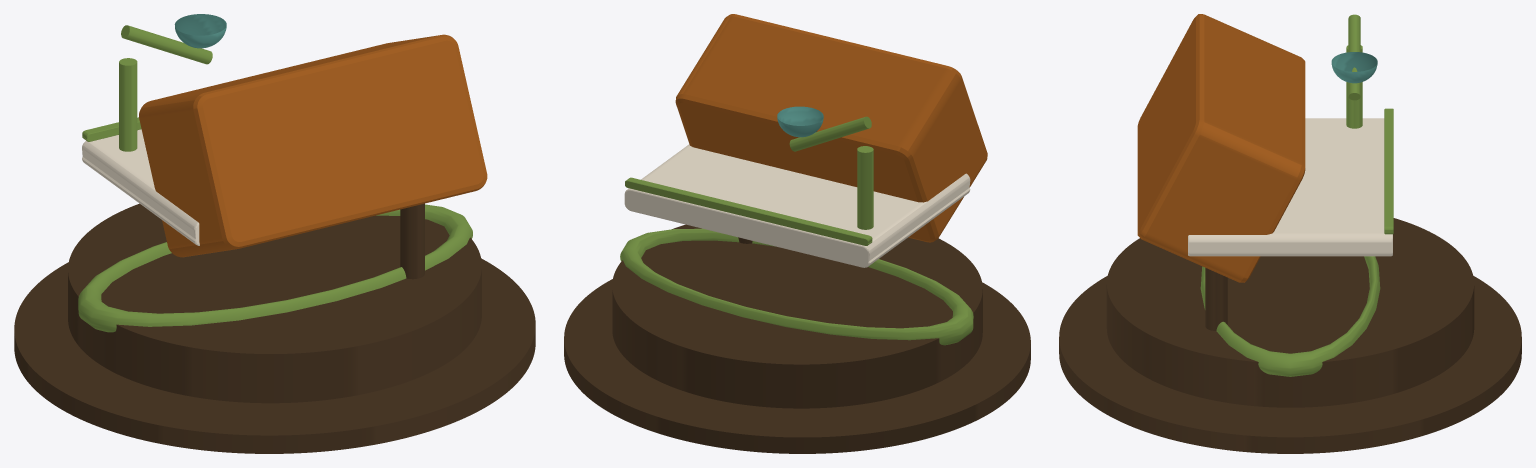
File: 0612_考古图鉴_良渚水利系统（沙盘模型）.glb
3 renders of one model, left to right at view 1: azimuth 30°, elevation 25°; view 2: azimuth 150°, elevation 25°; view 3: azimuth 270°, elevation 25°, orthographic. The views are drawn at different scales.
Parts seen in each view (by area): view 1: card_0612; view 2: card_0612; view 3: card_0612.
Part boxes in pixels (x1=…): card_0612: x1=14, y1=14, x2=535, y2=453; card_0612: x1=564, y1=14, x2=1030, y2=453; card_0612: x1=1059, y1=14, x2=1521, y2=453.
Bounding box in the file's own units: 1.48 × 1 × 1.45.
